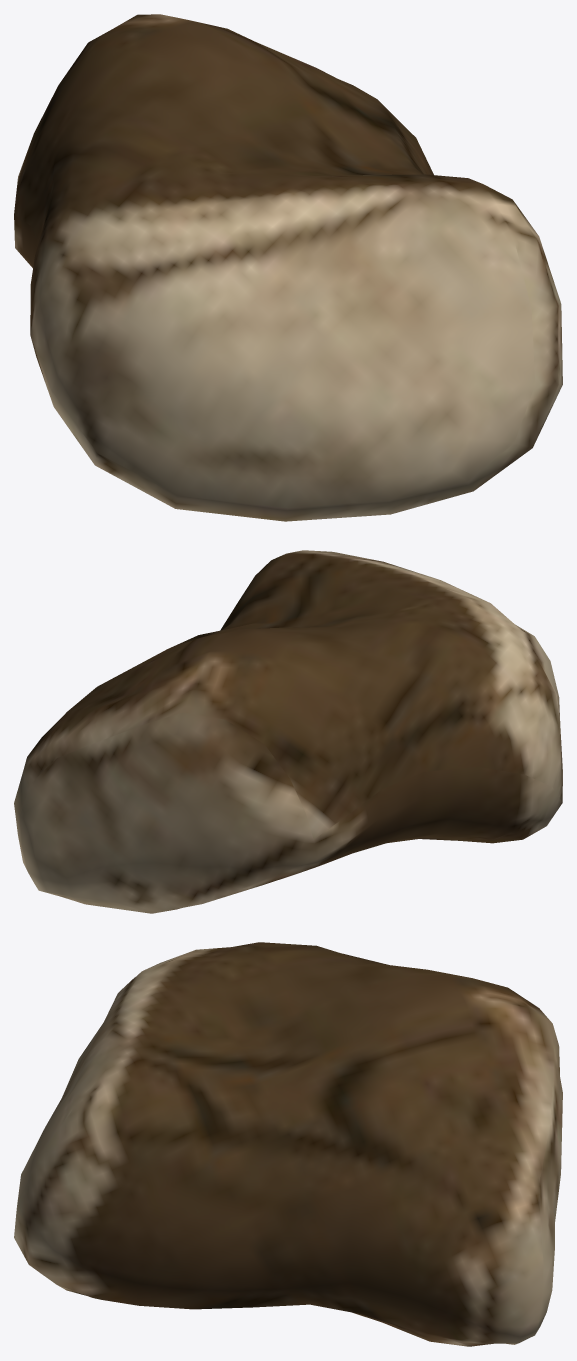
The model's file is Third_Carpal.glb.
3 views of the same model, one above another, from view 1: azimuth 30°, elevation 25°; view 2: azimuth 150°, elevation 25°; view 3: azimuth 270°, elevation 25° (orthographic). The views are drawn at different scales.
Parts seen in each view (by area): view 1: R_Frt_Third_Carpal; view 2: R_Frt_Third_Carpal; view 3: R_Frt_Third_Carpal.
Boxes of the visible parts, x1=… form: R_Frt_Third_Carpal: x1=14, y1=14, x2=562, y2=521; R_Frt_Third_Carpal: x1=14, y1=550, x2=562, y2=913; R_Frt_Third_Carpal: x1=14, y1=942, x2=562, y2=1346.
Size of the model in its own units: 0.0385 by 0.0251 by 0.0427.
Materials: 1 (1 with a texture image).
